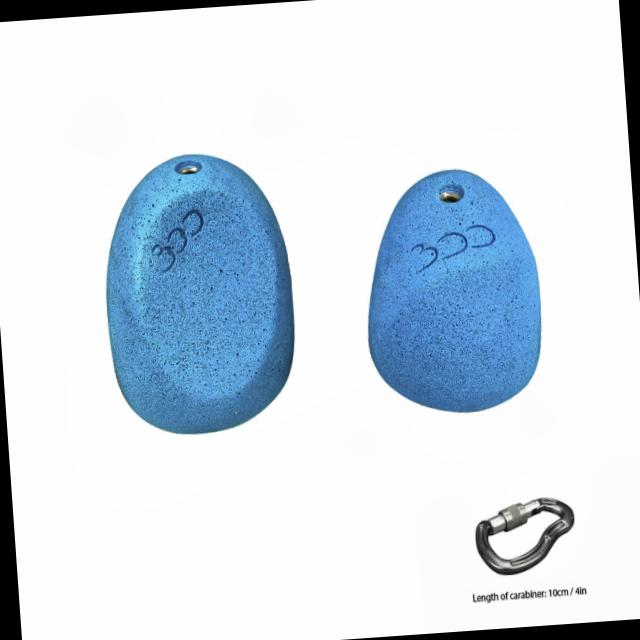Hold: (96, 146, 304, 442), (356, 162, 552, 420)
